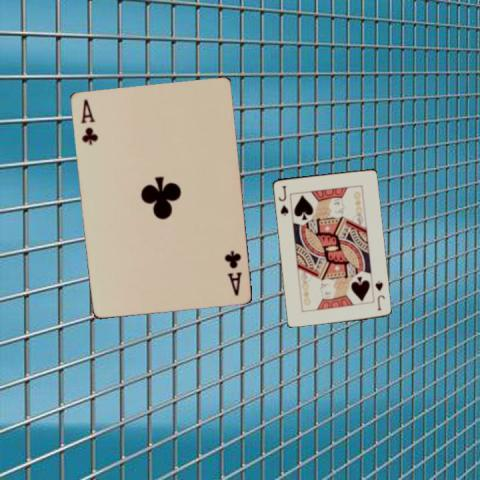Ac: (77, 96, 99, 147), (222, 247, 243, 297)
Js: (372, 278, 386, 312), (276, 183, 289, 217)
